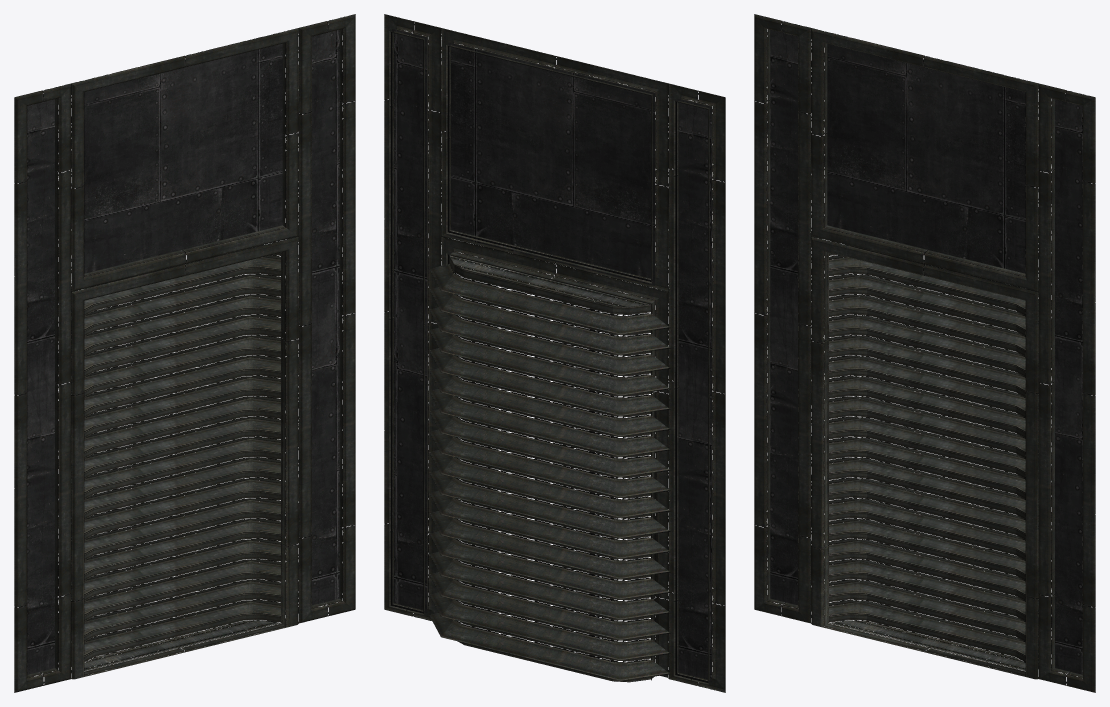
The model's file is tesla_modules_core_armonica_wall.dae.
The picture shows the model from 3 angles, left to right: view 1: azimuth 30°, elevation 25°; view 2: azimuth 150°, elevation 25°; view 3: azimuth 330°, elevation 25°; orthographic projection.
Parts seen in each view (by area): view 1: polySurface787, polySurface786; view 2: polySurface787, polySurface786; view 3: polySurface787, polySurface786.
Boxes of the visible parts, bbox=[...] form: polySurface787: bbox=[14, 14, 355, 692]; polySurface786: bbox=[22, 28, 341, 674]; polySurface787: bbox=[384, 14, 725, 692]; polySurface786: bbox=[392, 29, 711, 682]; polySurface787: bbox=[754, 14, 1095, 692]; polySurface786: bbox=[768, 27, 1087, 674].
Bounding box in the file's own units: 3 × 5 × 0.3884.
